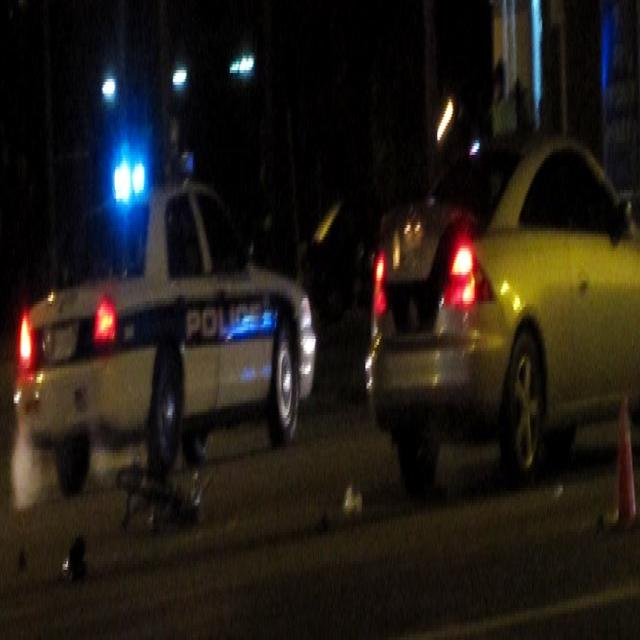Car: (14, 157, 318, 494), (360, 133, 640, 494)
